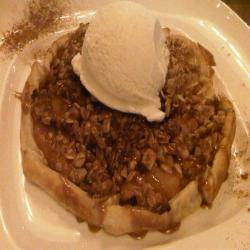apple_pie: (25, 34, 244, 239)
icecream: (71, 4, 180, 127)
